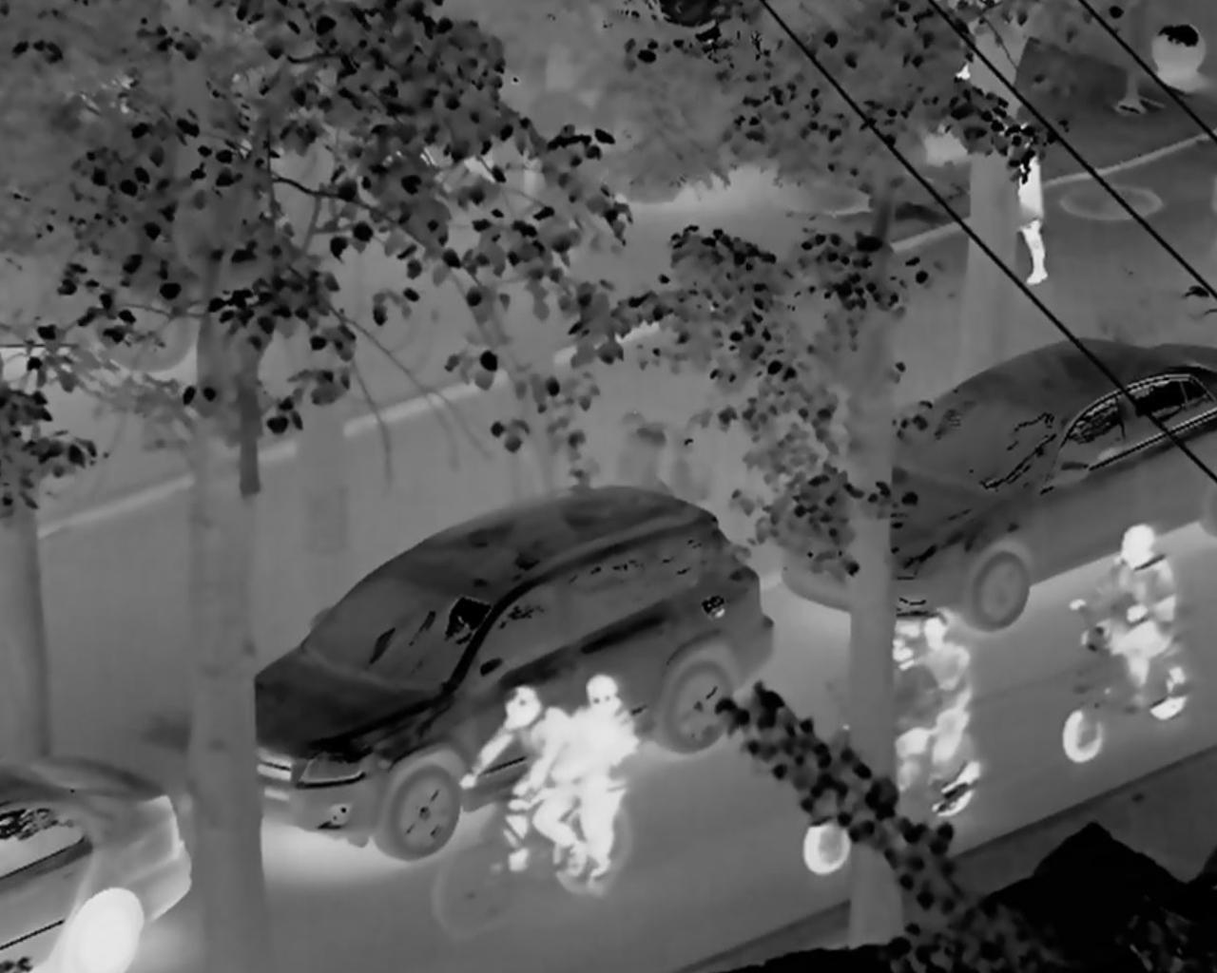person: (443, 680, 593, 907), (1060, 509, 1191, 756), (574, 665, 652, 901), (921, 601, 998, 833), (857, 610, 934, 813), (993, 118, 1061, 286)
